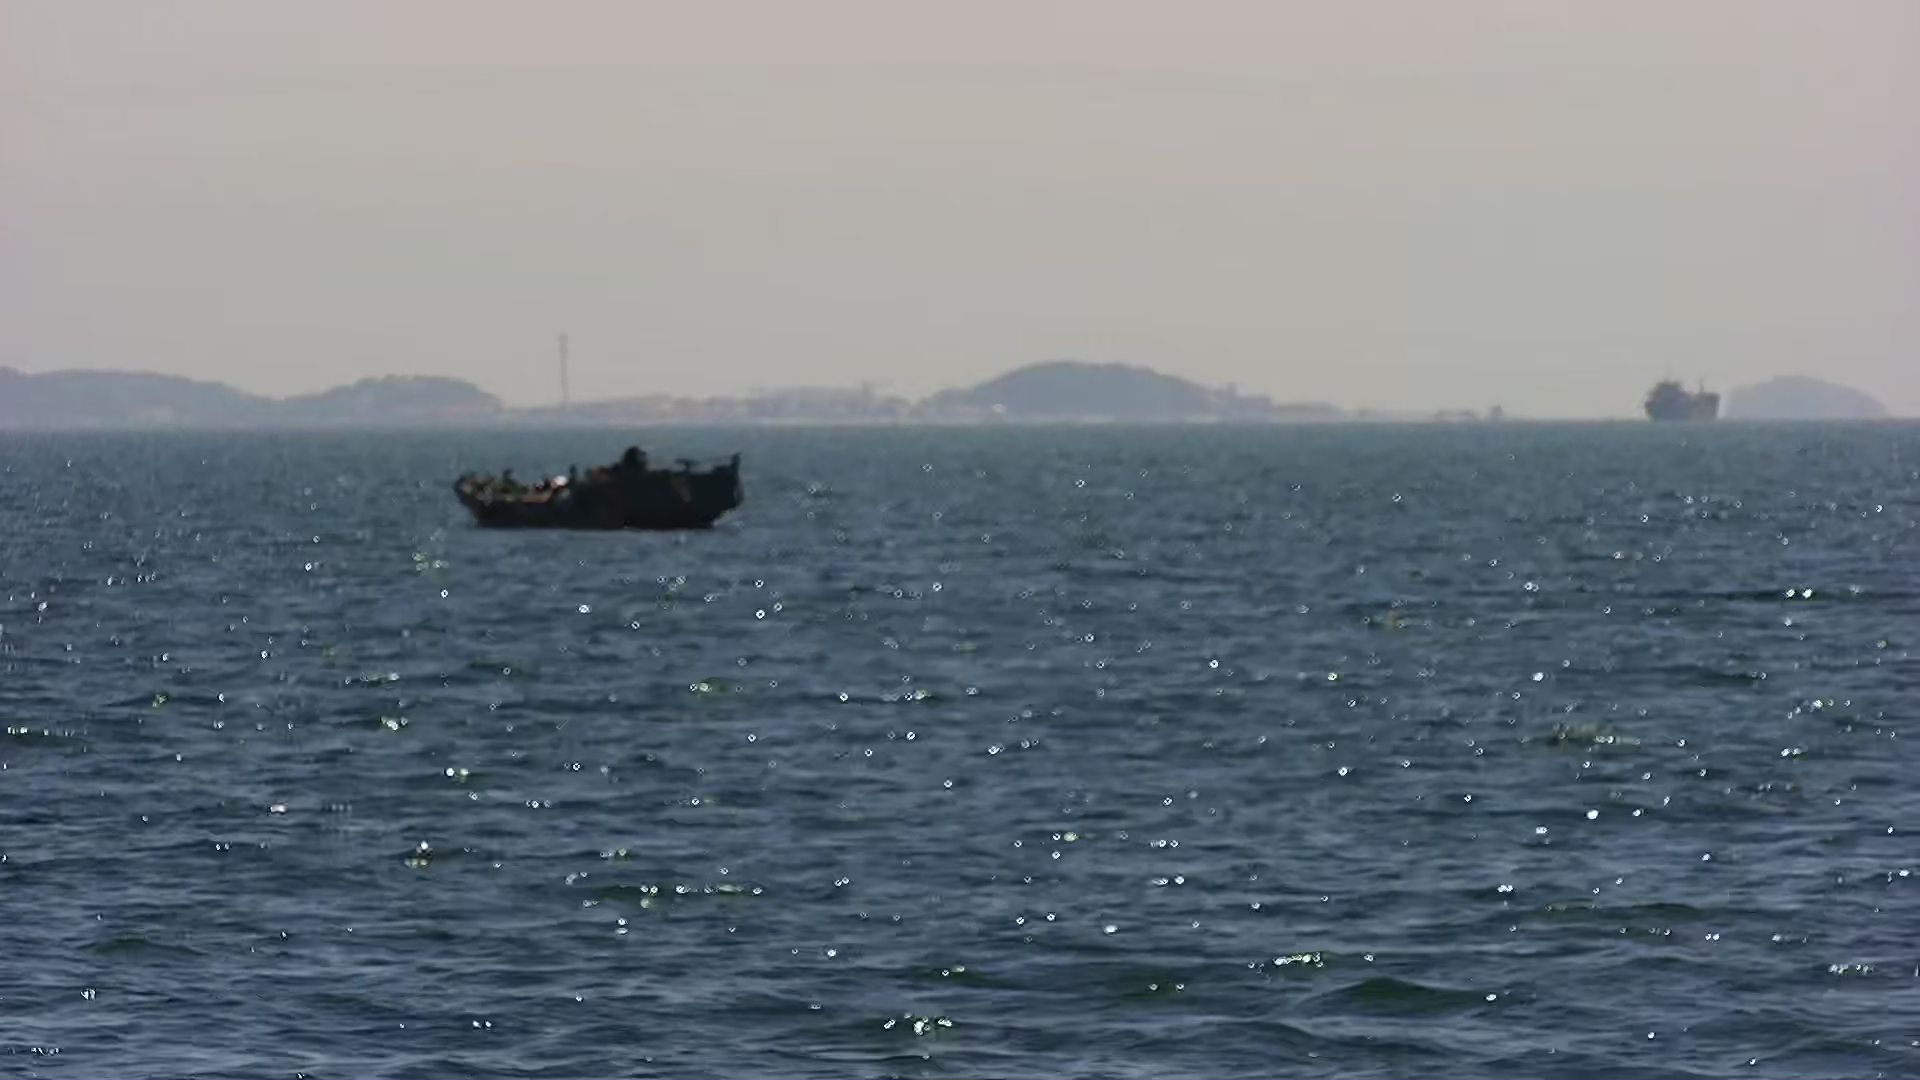boat: (456, 444, 753, 537)
rock: (1712, 367, 1900, 423)
ship: (1644, 373, 1721, 419)
